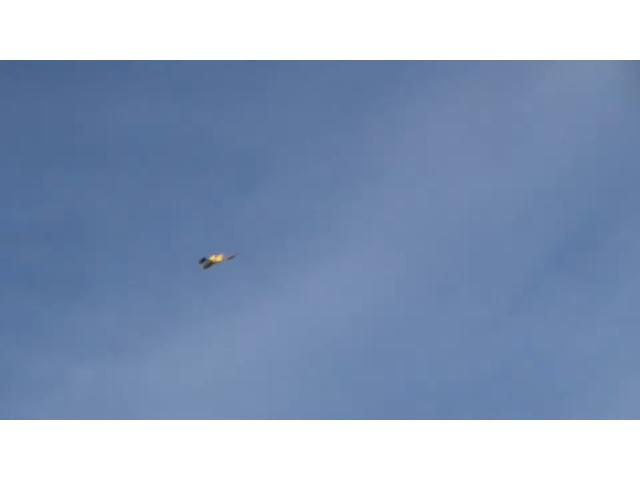Anti-Drone: (198, 252, 246, 270)
